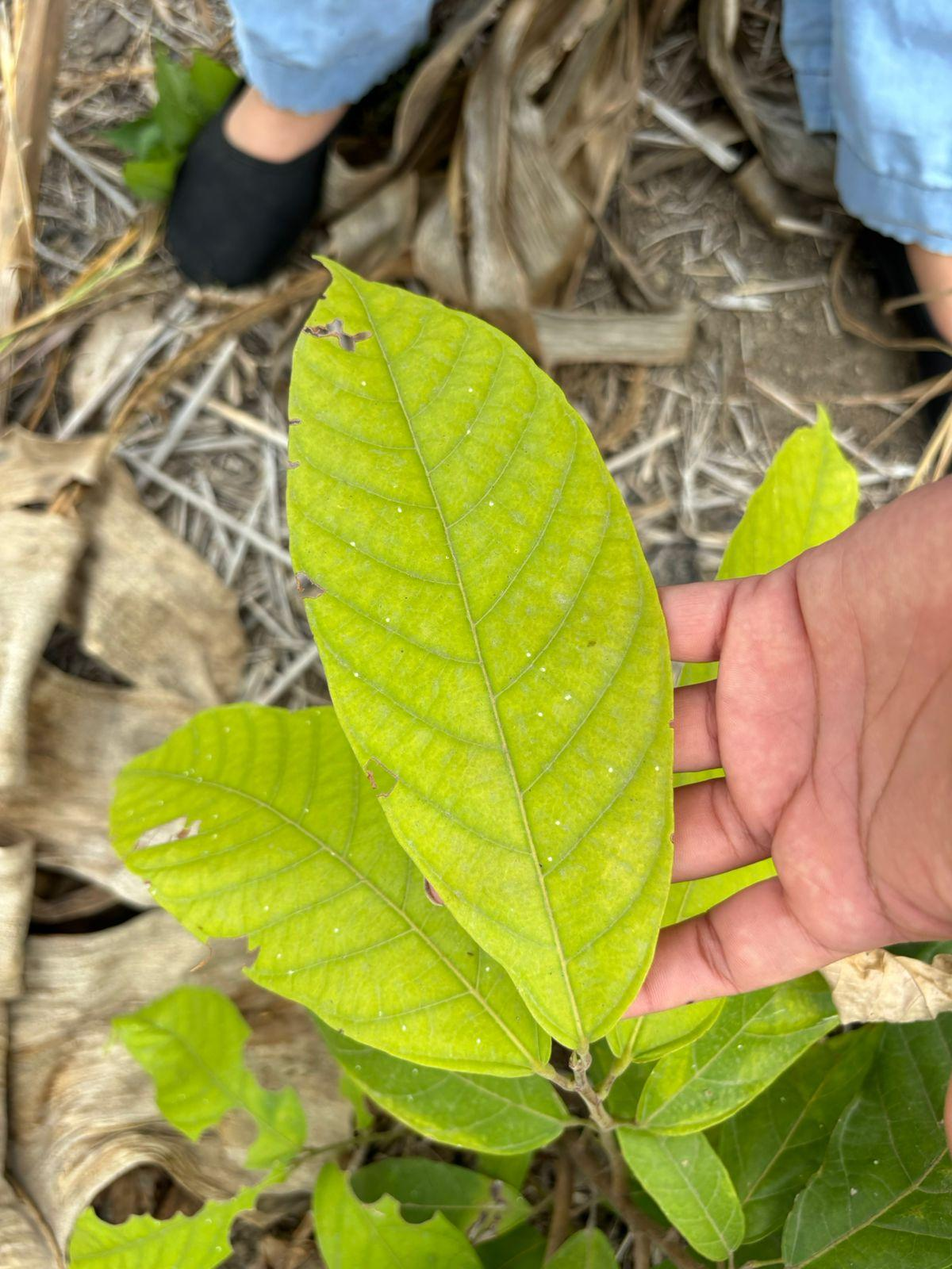deficiencia_nitrogeno: (288, 263, 673, 1052)
